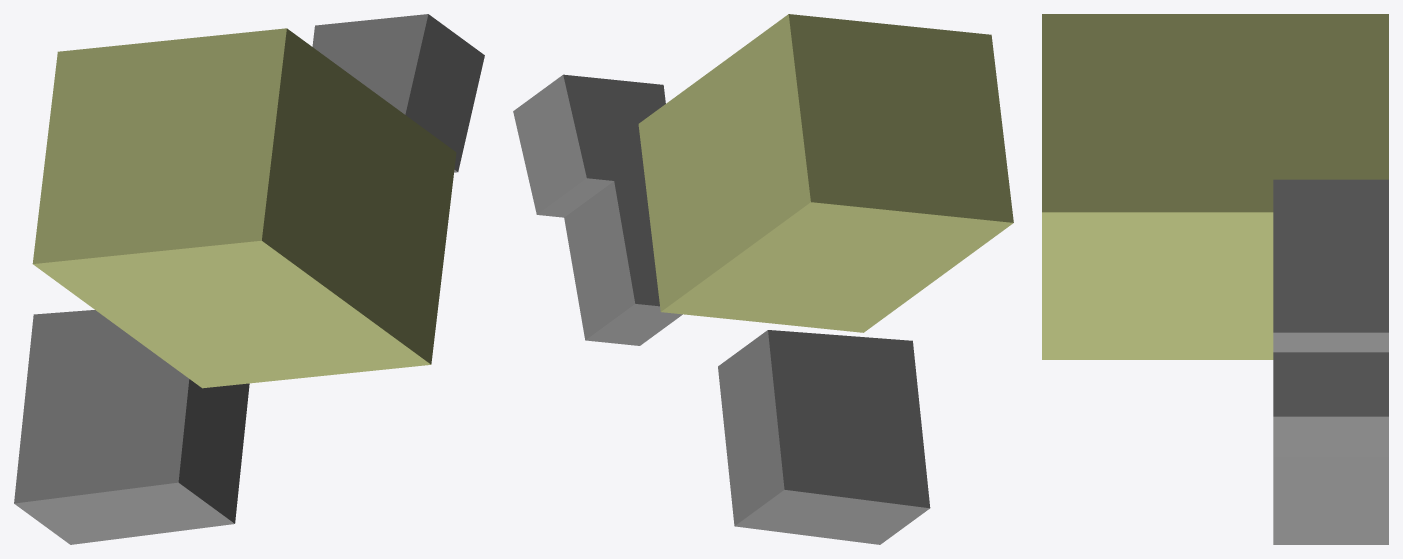
The picture shows the model from 3 angles, left to right: view 1: azimuth 30°, elevation 25°; view 2: azimuth 150°, elevation 25°; view 3: azimuth 270°, elevation 25°; orthographic projection. The views are drawn at different scales.
Parts seen in each view (by area): view 1: 0_1_0_0_0_1_2_1_0_2; view 2: 0_1_0_0_0_1_2_1_0_2; view 3: 0_1_0_0_0_1_2_1_0_2.
Part boxes in pixels (left/top/right/bottom): 0_1_0_0_0_1_2_1_0_2: left=14, top=14, right=484, bottom=544; 0_1_0_0_0_1_2_1_0_2: left=513, top=14, right=1013, bottom=544; 0_1_0_0_0_1_2_1_0_2: left=1042, top=14, right=1388, bottom=544.
Size of the model in its own units: 12.7 by 13.48 by 9.
